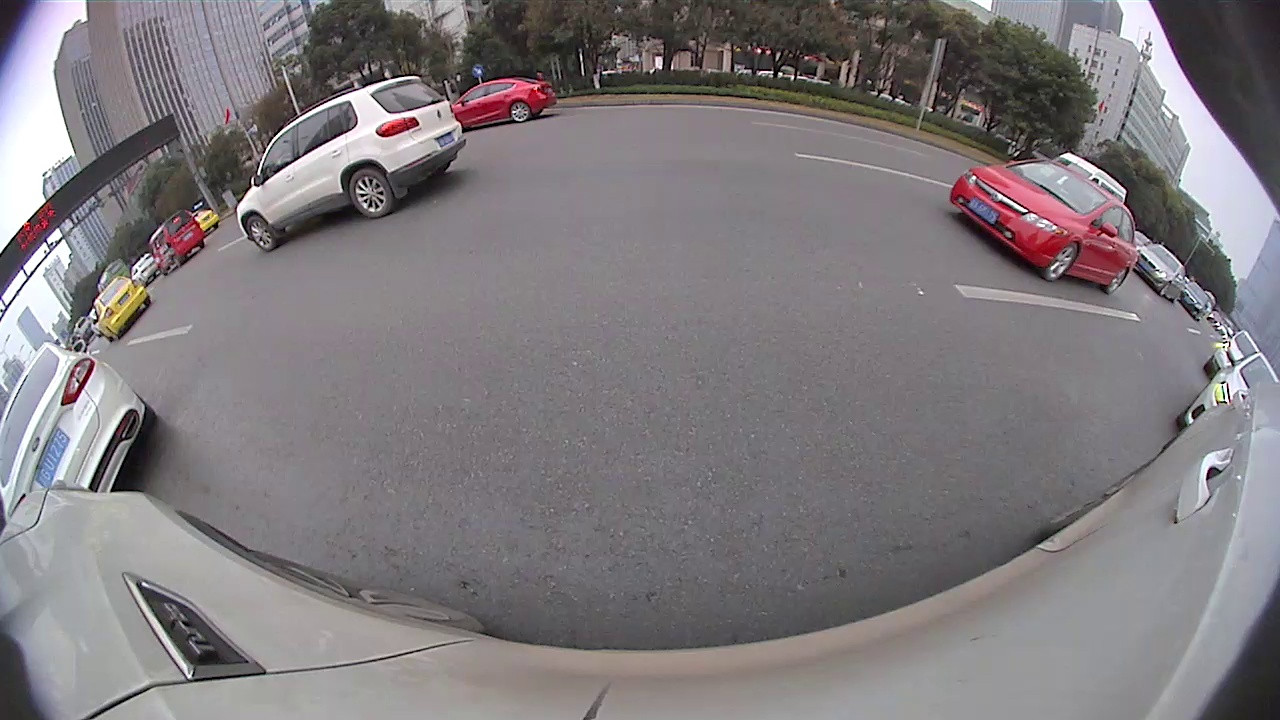car: (234, 79, 463, 252), (1, 338, 153, 518), (948, 159, 1132, 293), (1176, 355, 1279, 431), (448, 78, 554, 128), (92, 274, 152, 341), (150, 212, 206, 276)
front: (1042, 244, 1082, 284), (247, 214, 276, 252)
rear: (349, 166, 395, 219), (1106, 264, 1128, 295), (509, 99, 532, 124)
